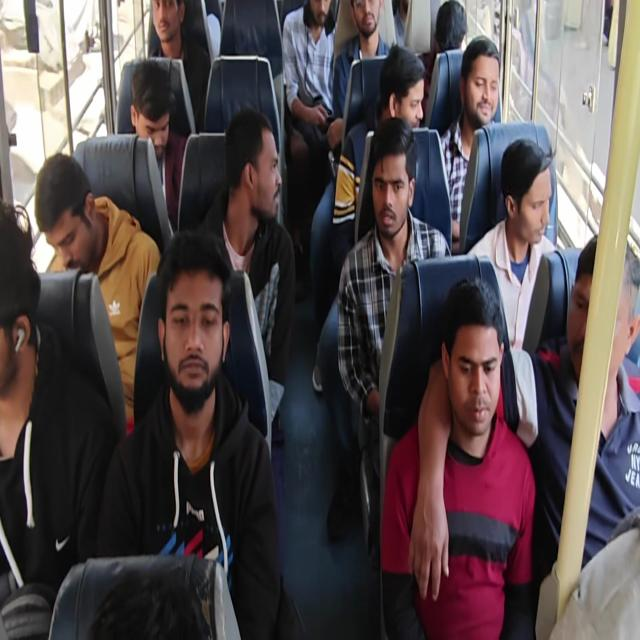person: (159, 253, 226, 406), (37, 166, 109, 282), (566, 246, 620, 389), (444, 301, 502, 431), (0, 202, 37, 400), (230, 111, 285, 228), (125, 69, 177, 171), (507, 145, 554, 253), (362, 157, 414, 246), (463, 46, 501, 133), (386, 59, 424, 132), (428, 0, 467, 64), (347, 0, 386, 45), (142, 0, 180, 40), (300, 0, 333, 44)
